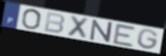B: (43, 11, 66, 35)
E: (112, 22, 138, 49)
G: (137, 28, 160, 51)
N: (89, 19, 114, 44)
O: (20, 9, 43, 30)
X: (66, 15, 91, 41)
